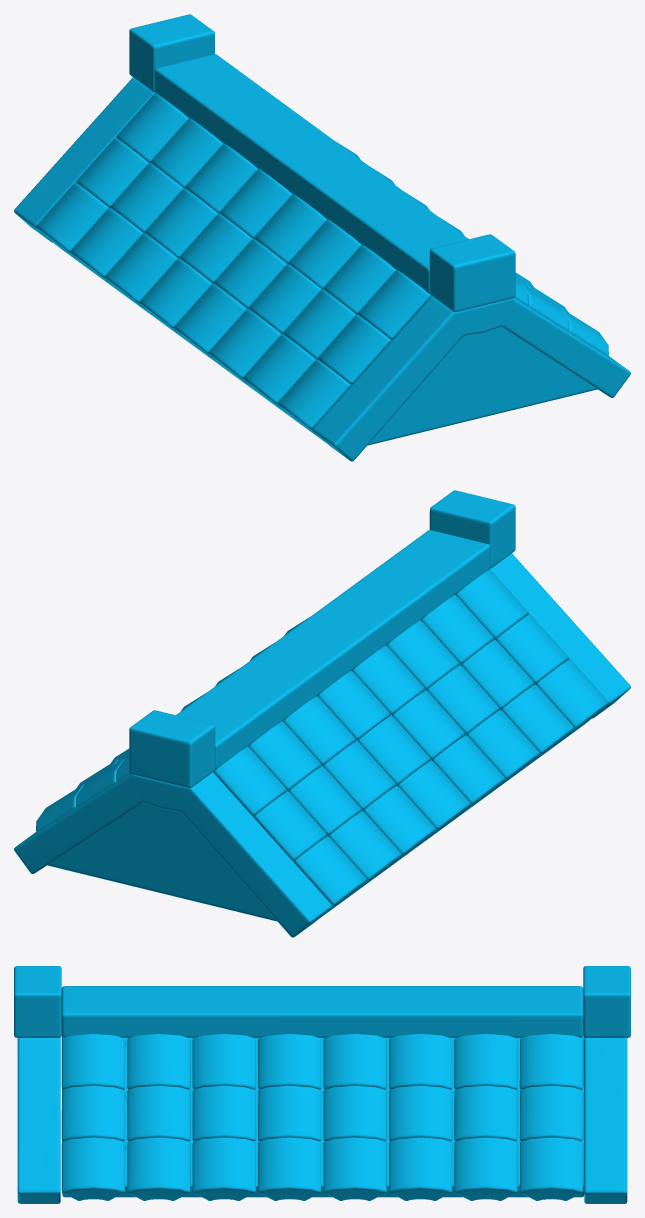
Rendered from SM_Brick_Roof_03.fbx.
The picture shows the model from 3 angles, top to bottom: view 1: azimuth 30°, elevation 25°; view 2: azimuth 150°, elevation 25°; view 3: azimuth 270°, elevation 25°; orthographic projection. The views are drawn at different scales.
Parts seen in each view (by area): view 1: SM_Brick_Roof_03; view 2: SM_Brick_Roof_03; view 3: SM_Brick_Roof_03.
Boxes of the visible parts, x1=… form: SM_Brick_Roof_03: x1=14, y1=14, x2=630, y2=461; SM_Brick_Roof_03: x1=14, y1=490, x2=630, y2=937; SM_Brick_Roof_03: x1=14, y1=966, x2=630, y2=1203.
Bounding box in the file's own units: 2.79 × 1.53 × 5.03.
